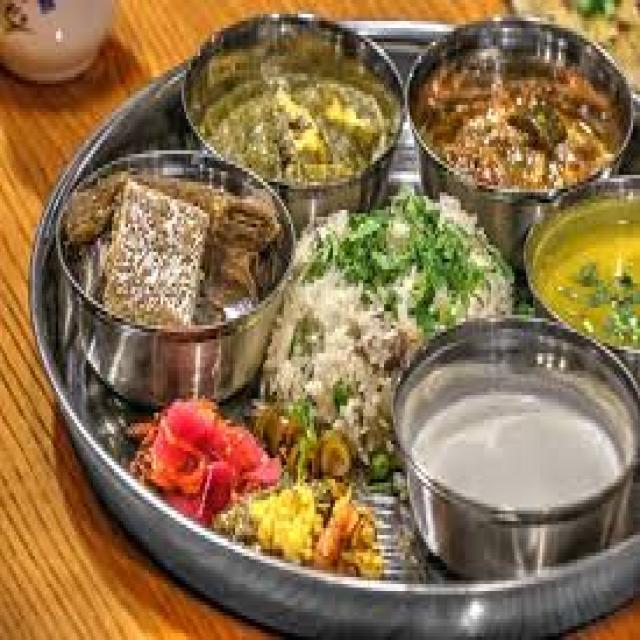dal: (200, 16, 391, 209), (532, 194, 635, 351)
rice: (73, 142, 271, 367), (251, 274, 395, 457)
sambar-rasam: (0, 0, 128, 88)
veg-fry: (405, 6, 629, 216), (191, 4, 390, 210)
